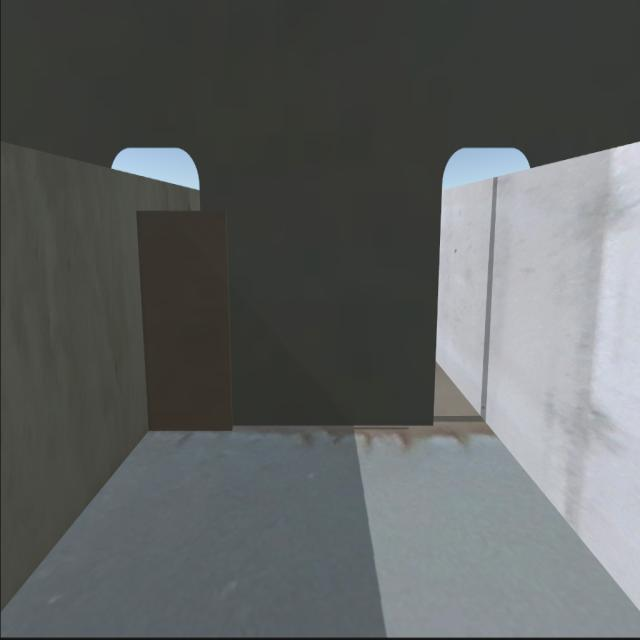fillet_yong_jeop_jang: (146, 424, 434, 434)
longi_yong_jeop_jang: (133, 216, 153, 444)
plate_CP01: (140, 212, 227, 432)
